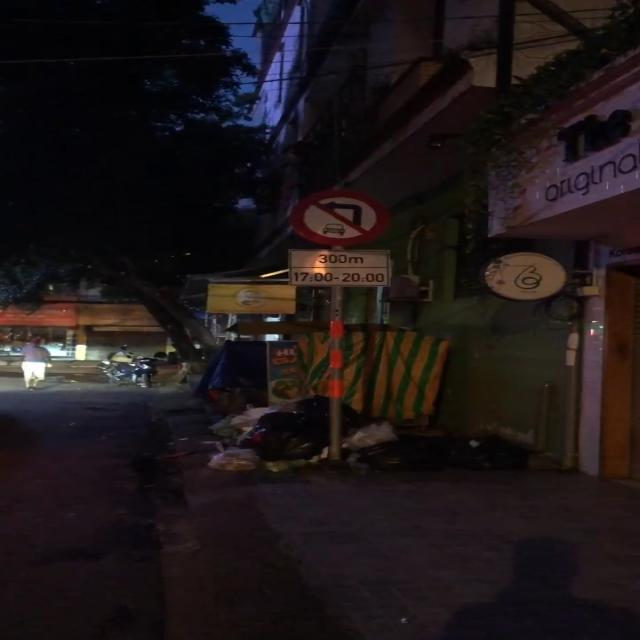Bien bao cam xe o to re trai: (287, 188, 389, 248)
